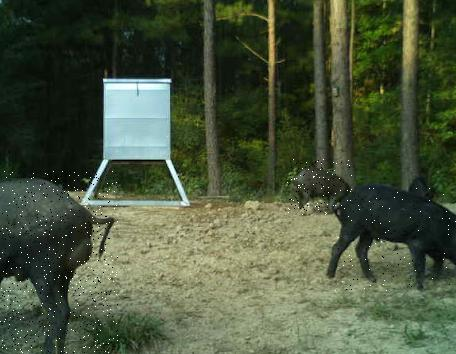Hog: (0, 171, 118, 354), (329, 188, 456, 291), (287, 158, 352, 216)
